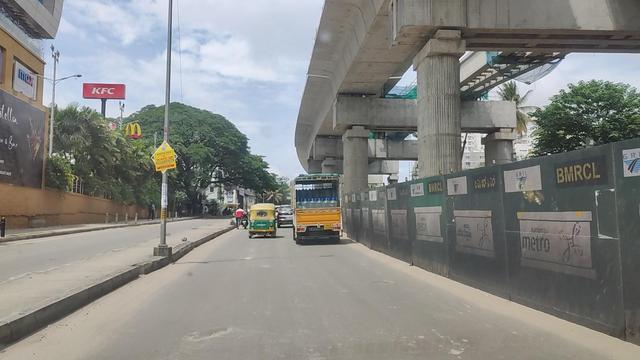HMV: (291, 171, 342, 249)
LMV: (249, 203, 276, 240)
RoadDamages: (188, 322, 231, 345)
